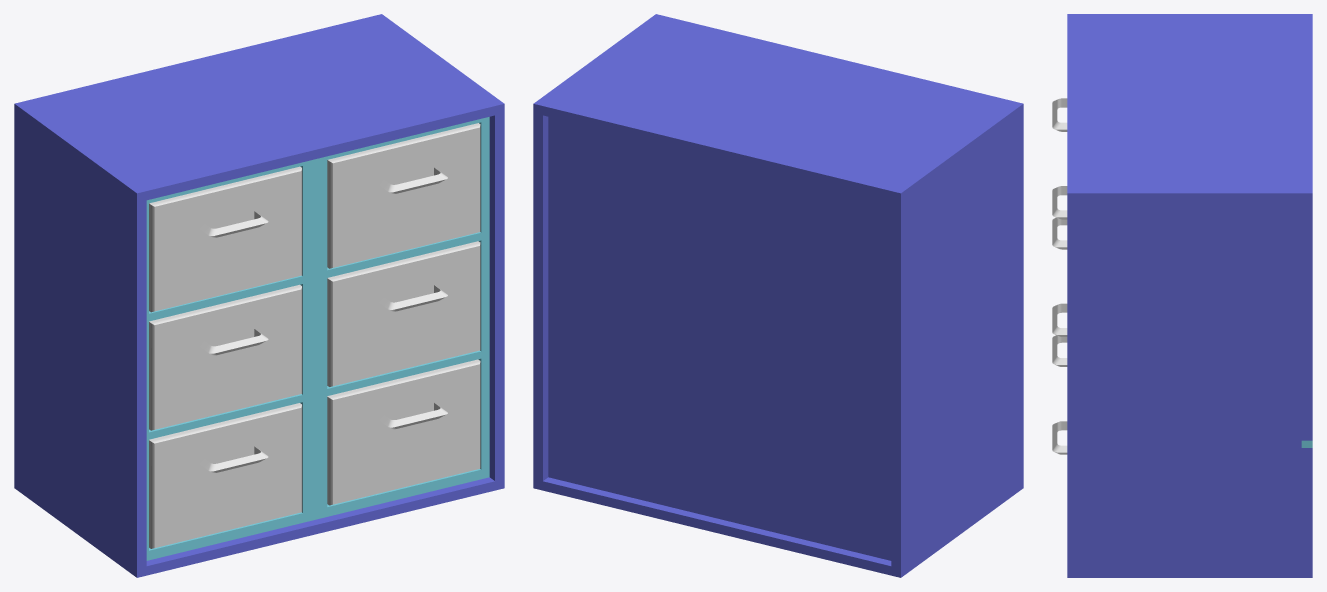
The model's file is Aktenschrank.fbx.
The picture shows the model from 3 angles, left to right: view 1: azimuth 30°, elevation 25°; view 2: azimuth 150°, elevation 25°; view 3: azimuth 270°, elevation 25°; orthographic projection.
Parts seen in each view (by area): view 1: security_schrank__18_.005_LOD0, Cube.004_LOD0, Plane.003_LOD0; view 2: security_schrank__18_.005_LOD0; view 3: security_schrank__18_.005_LOD0, Plane.003_LOD0.
Boxes of the visible parts, box(x1,y1,x2,y2) form: security_schrank__18_.005_LOD0: box(14, 14, 504, 577); Cube.004_LOD0: box(149, 123, 480, 548); Plane.003_LOD0: box(200, 167, 447, 472); security_schrank__18_.005_LOD0: box(533, 14, 1023, 577); security_schrank__18_.005_LOD0: box(1067, 14, 1312, 577); Plane.003_LOD0: box(1052, 98, 1067, 454).
Size of what is drawn, in the model's own units: 200 by 200 by 123.
